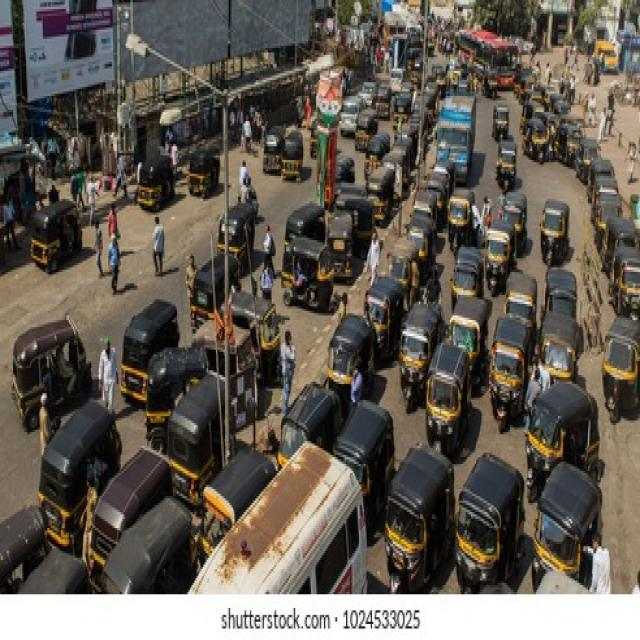Truck: (439, 93, 476, 180)
autorikshaw: (387, 448, 457, 598), (456, 452, 524, 594), (534, 469, 608, 596), (12, 313, 90, 424), (168, 374, 232, 500), (528, 385, 601, 494), (120, 299, 180, 402), (489, 316, 532, 433), (426, 347, 469, 458), (399, 303, 440, 415), (330, 316, 375, 407), (282, 238, 336, 312), (34, 201, 82, 268), (540, 194, 569, 270), (139, 157, 176, 210), (189, 149, 219, 194), (496, 142, 517, 192), (282, 130, 303, 180)
